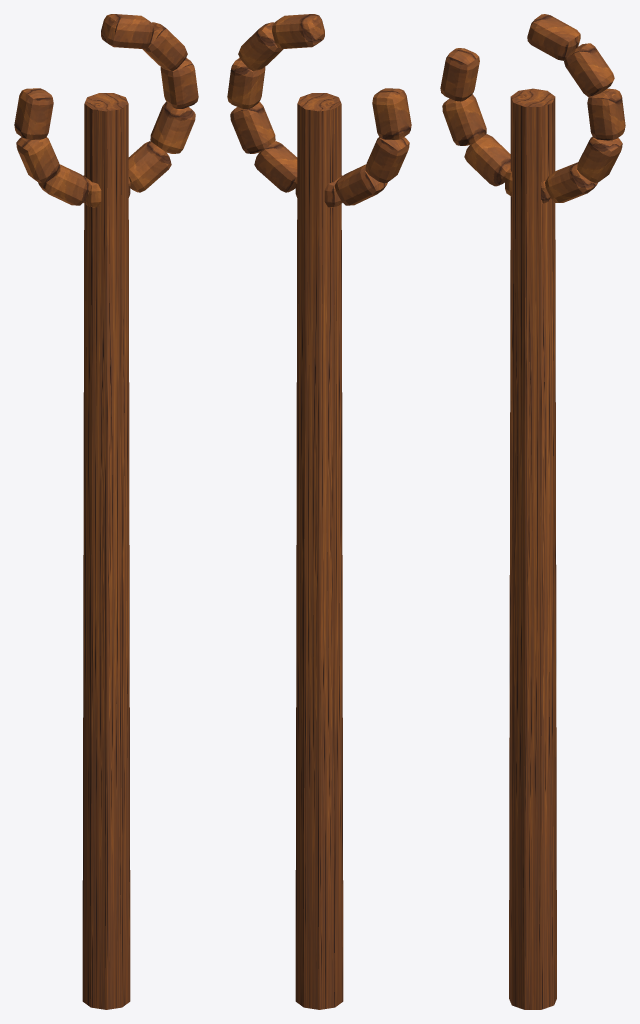
File: witch_staff.glb
The picture shows the model from 3 angles, left to right: view 1: azimuth 30°, elevation 25°; view 2: azimuth 150°, elevation 25°; view 3: azimuth 330°, elevation 25°; orthographic projection.
Visible parts, largest first — view 1: Simple wooden staff, Carved crooked handle.008, Carved crooked handle.003, Carved crooked handle, Carved crooked handle.004, Carved crooked handle.007, Carved crooked handle.002, Carved crooked handle.006, Carved crooked handle.001; view 2: Simple wooden staff, Carved crooked handle.008, Carved crooked handle.003, Carved crooked handle, Carved crooked handle.004, Carved crooked handle.007, Carved crooked handle.002, Carved crooked handle.006, Carved crooked handle.001; view 3: Simple wooden staff, Carved crooked handle.001, Carved crooked handle, Carved crooked handle.002, Carved crooked handle.008, Carved crooked handle.007, Carved crooked handle.006, Carved crooked handle.003, Carved crooked handle.004.
Boxes of the visible parts, bbox=[...] form: Simple wooden staff: bbox=[82, 93, 130, 1009]; Carved crooked handle.008: bbox=[14, 88, 53, 139]; Carved crooked handle.003: bbox=[150, 101, 195, 153]; Carved crooked handle: bbox=[101, 14, 153, 48]; Carved crooked handle.004: bbox=[128, 141, 171, 192]; Carved crooked handle.007: bbox=[16, 137, 60, 182]; Carved crooked handle.002: bbox=[160, 58, 198, 108]; Carved crooked handle.006: bbox=[38, 164, 91, 205]; Carved crooked handle.001: bbox=[142, 22, 187, 71]; Simple wooden staff: bbox=[295, 93, 343, 1009]; Carved crooked handle.008: bbox=[372, 88, 411, 139]; Carved crooked handle.003: bbox=[230, 101, 275, 153]; Carved crooked handle: bbox=[272, 14, 324, 48]; Carved crooked handle.004: bbox=[254, 141, 297, 192]; Carved crooked handle.007: bbox=[365, 137, 409, 182]; Carved crooked handle.002: bbox=[227, 58, 265, 108]; Carved crooked handle.006: bbox=[334, 164, 387, 205]; Carved crooked handle.001: bbox=[238, 22, 283, 71]; Simple wooden staff: bbox=[509, 88, 556, 1009]; Carved crooked handle.001: bbox=[564, 43, 614, 96]; Carved crooked handle: bbox=[527, 14, 580, 60]; Carved crooked handle.002: bbox=[587, 88, 625, 140]; Carved crooked handle.008: bbox=[440, 48, 479, 101]; Carved crooked handle.007: bbox=[442, 94, 486, 145]; Carved crooked handle.006: bbox=[464, 134, 510, 186]; Carved crooked handle.003: bbox=[577, 136, 622, 182]; Carved crooked handle.004: bbox=[545, 162, 597, 202].
Bounding box in the file's own units: 0.2178 × 1.16 × 0.0512.
Materials: 1 (1 with a texture image).
